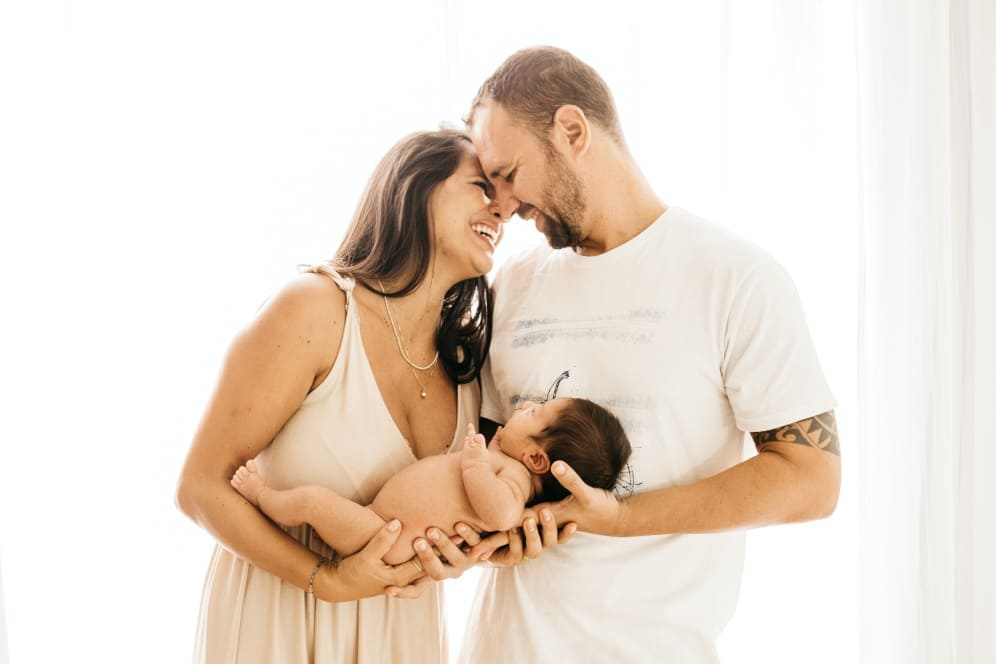person: (466, 49, 841, 664), (175, 137, 459, 664), (253, 402, 618, 572)
